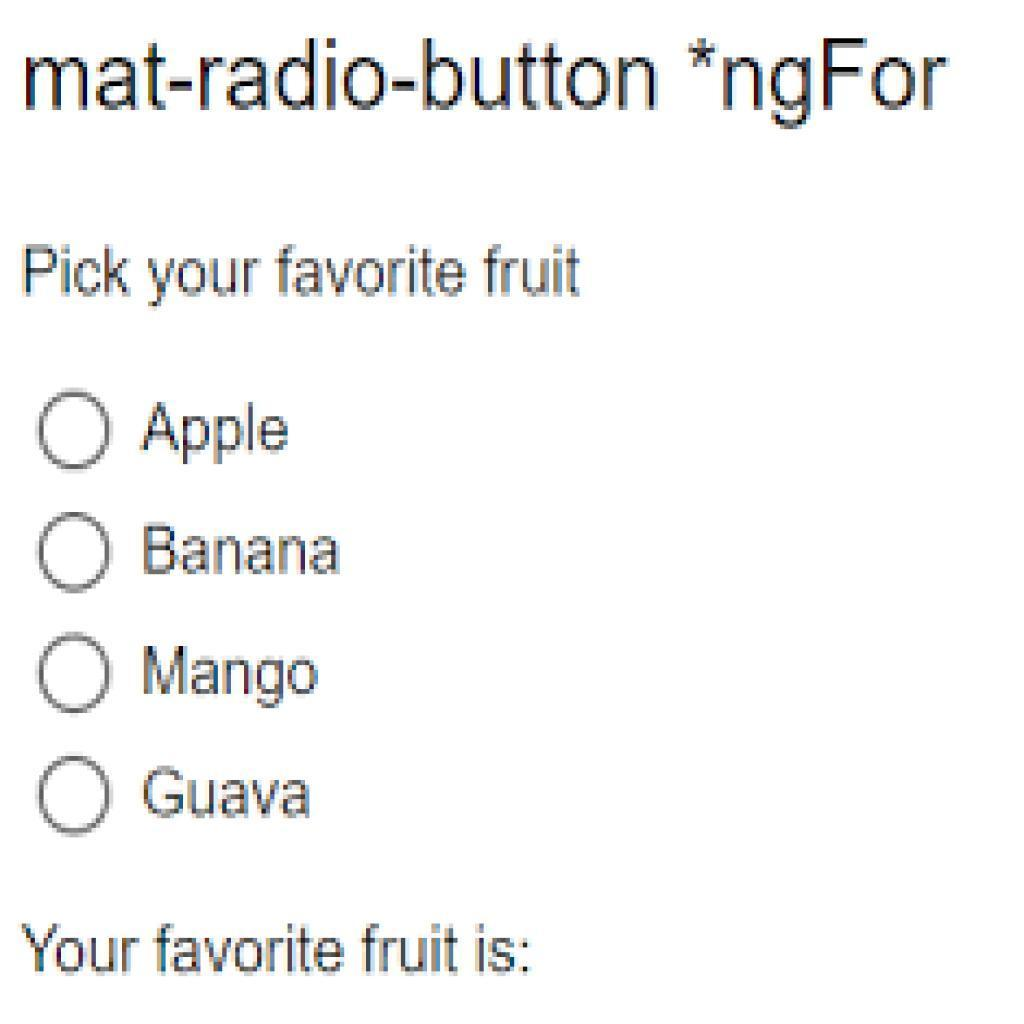label: (22, 33, 952, 130), (20, 230, 583, 320), (13, 912, 536, 987), (142, 519, 341, 586), (135, 639, 318, 709), (149, 761, 318, 835), (143, 390, 291, 465)
radio: (30, 388, 118, 481), (32, 752, 119, 842), (32, 629, 117, 721), (36, 508, 117, 600)
